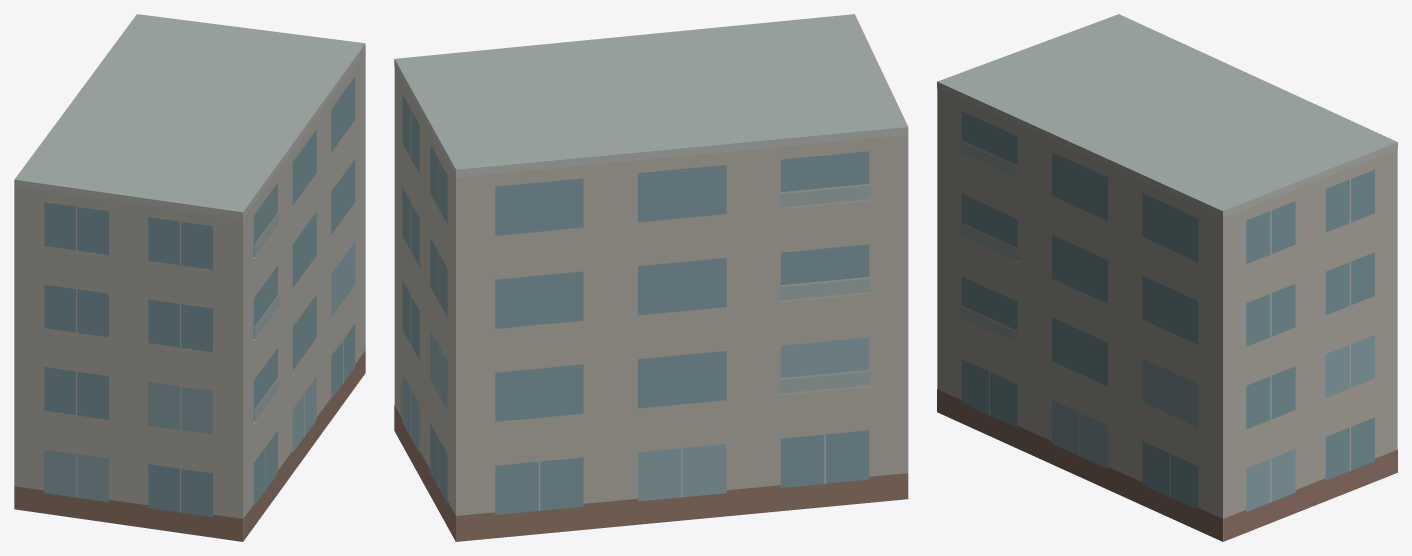
The model's file is survey-upis-32887823.glb.
3 renders of one model, left to right at view 1: azimuth 30°, elevation 25°; view 2: azimuth 150°, elevation 25°; view 3: azimuth 270°, elevation 25°, orthographic. The views are drawn at different scales.
Parts seen in each view (by area): view 1: survey-upis-32887823.tmp; view 2: survey-upis-32887823.tmp; view 3: survey-upis-32887823.tmp.
Part boxes in pixels (x1=…): survey-upis-32887823.tmp: x1=14, y1=14, x2=365, y2=541; survey-upis-32887823.tmp: x1=394, y1=14, x2=908, y2=541; survey-upis-32887823.tmp: x1=937, y1=14, x2=1397, y2=541.
Bounding box in the file's own units: 14.99 × 11.7 × 14.79.
